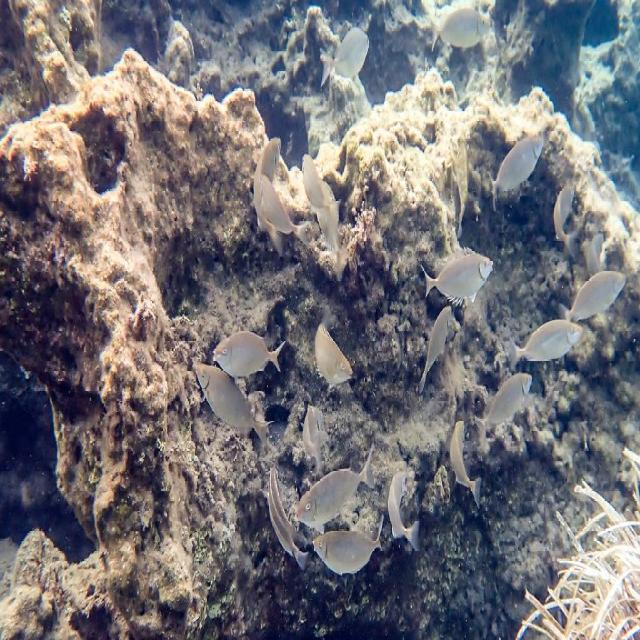Sokar Baligi: (413, 240, 498, 316), (484, 125, 551, 214), (310, 317, 361, 401)
